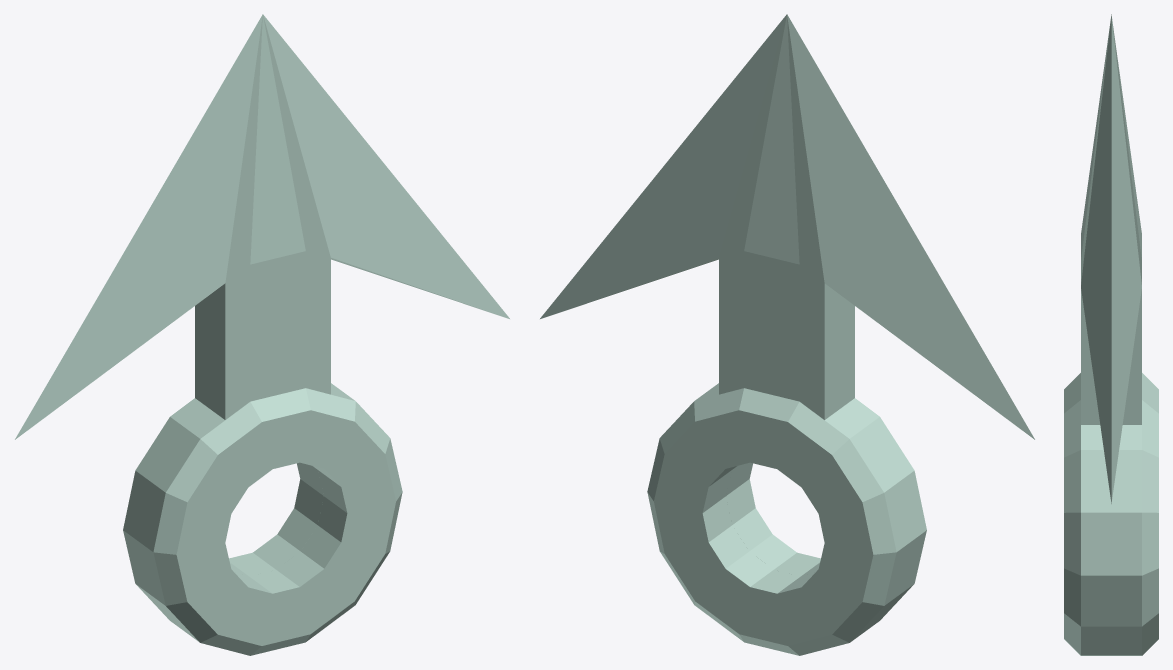
File: HOOK3.fbx
3 renders of one model, left to right at view 1: azimuth 30°, elevation 25°; view 2: azimuth 150°, elevation 25°; view 3: azimuth 270°, elevation 25°, orthographic.
Visible parts, largest first — view 1: Cylinder.001; view 2: Cylinder.001; view 3: Cylinder.001.
Part boxes in pixels (left/top/right/bottom): Cylinder.001: left=15, top=14, right=509, bottom=655; Cylinder.001: left=540, top=14, right=1034, bottom=655; Cylinder.001: left=1064, top=14, right=1158, bottom=655.
Bounding box in the file's own units: 44.57 × 53.56 × 7.33.
